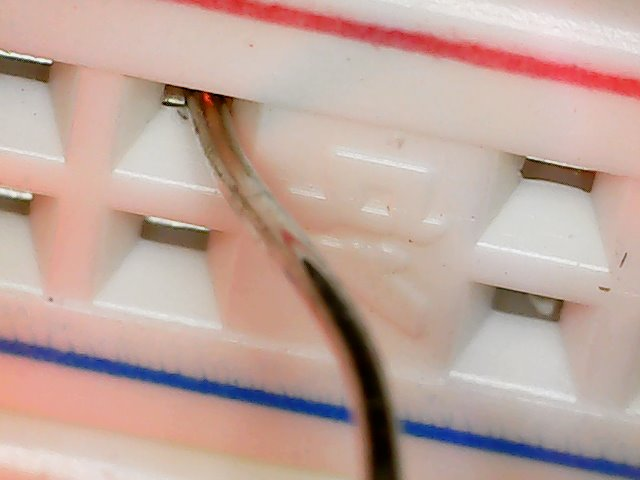connect: (92, 39, 311, 243)
